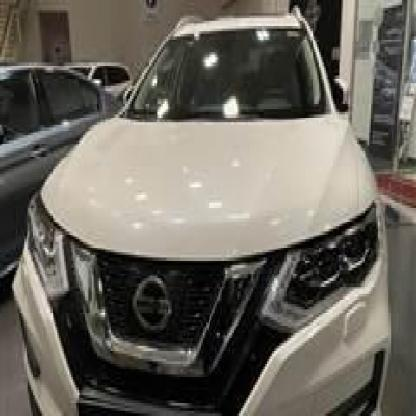Car: (15, 0, 392, 416), (0, 55, 135, 286), (64, 57, 142, 113)
